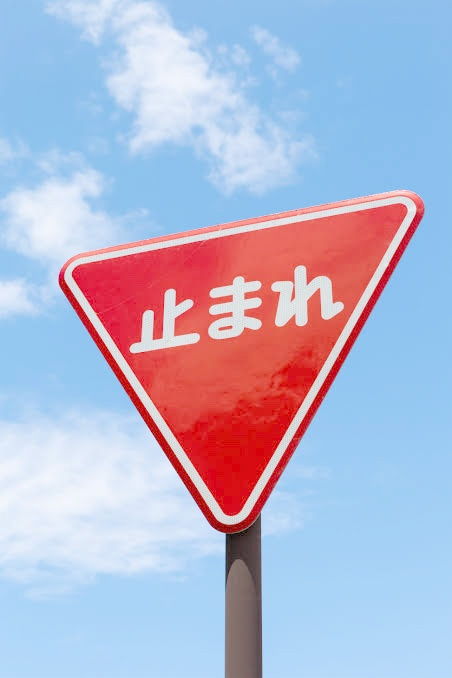Regulatory_sign_triangle: (52, 180, 430, 534)
